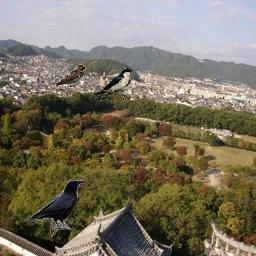Crow: (24, 180, 84, 230)
Swallow: (91, 68, 132, 104), (54, 64, 86, 87)
